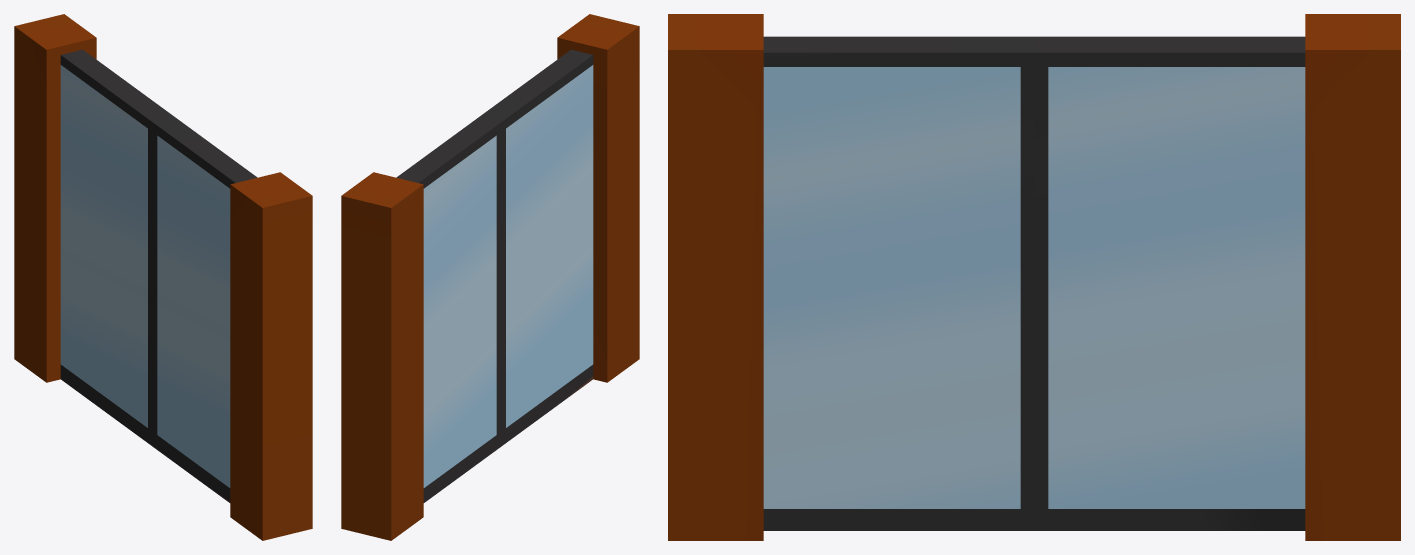
The model's file is Cua4.fbx.
The picture shows the model from 3 angles, left to right: view 1: azimuth 30°, elevation 25°; view 2: azimuth 150°, elevation 25°; view 3: azimuth 270°, elevation 25°; orthographic projection. The views are drawn at different scales.
Parts seen in each view (by area): view 1: cua4, cua4_cot; view 2: cua4, cua4_cot; view 3: cua4, cua4_cot.
Boxes of the visible parts, x1,y1,x2,y2 form: cua4: [60, 49, 257, 502]; cua4_cot: [14, 14, 312, 540]; cua4: [396, 49, 593, 502]; cua4_cot: [341, 14, 639, 540]; cua4: [763, 36, 1305, 530]; cua4_cot: [668, 14, 1400, 540].
Size of the model in its own units: 104 by 660 by 892.
Materials: 1 (1 with a texture image).
